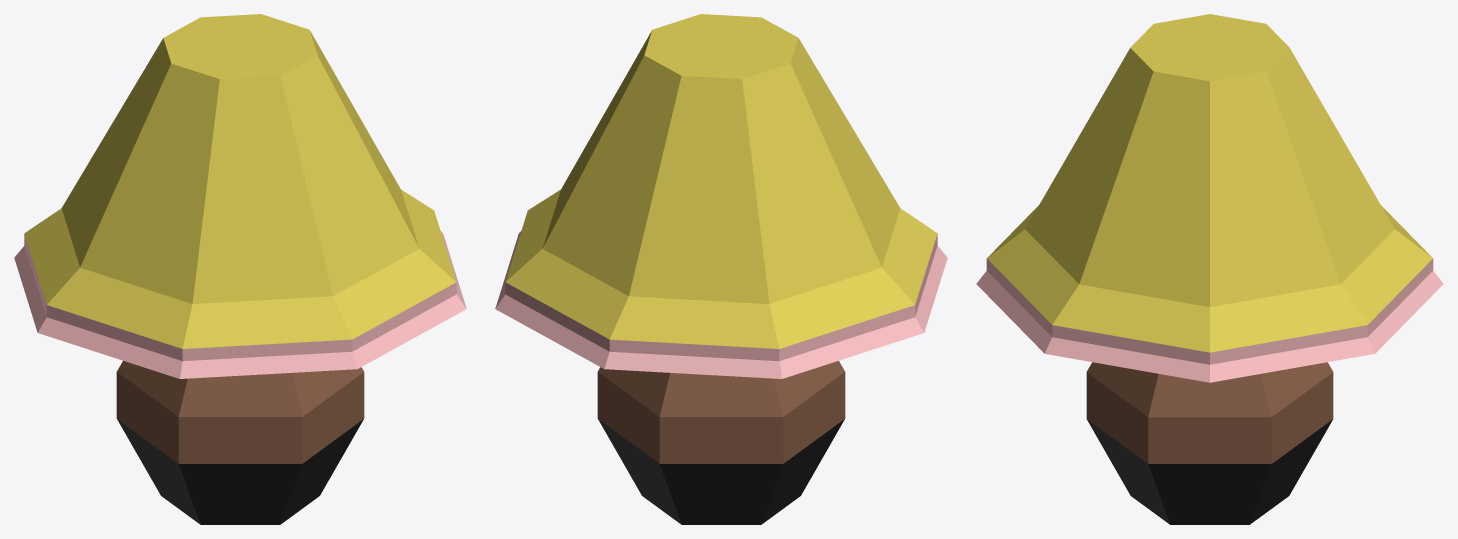
The model's file is LanbaKucuk.fbx.
The picture shows the model from 3 angles, left to right: view 1: azimuth 30°, elevation 25°; view 2: azimuth 150°, elevation 25°; view 3: azimuth 270°, elevation 25°; orthographic projection.
Visible parts, largest first — view 1: Cone.007, Cone.006; view 2: Cone.007, Cone.006; view 3: Cone.007, Cone.006.
Part boxes in pixels (x1,y1,x2,y2): Cone.007: (14,14,466,378); Cone.006: (116,360,364,524); Cone.007: (495,14,947,378); Cone.006: (597,360,845,524); Cone.007: (976,14,1443,382); Cone.006: (1086,362,1333,524).
Bounding box in the file's own units: 1121 × 1186 × 1121.
